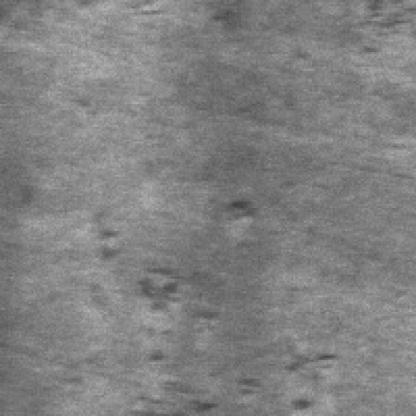rolled-in_scale: (64, 345, 335, 416), (96, 204, 256, 320), (343, 6, 410, 102)
